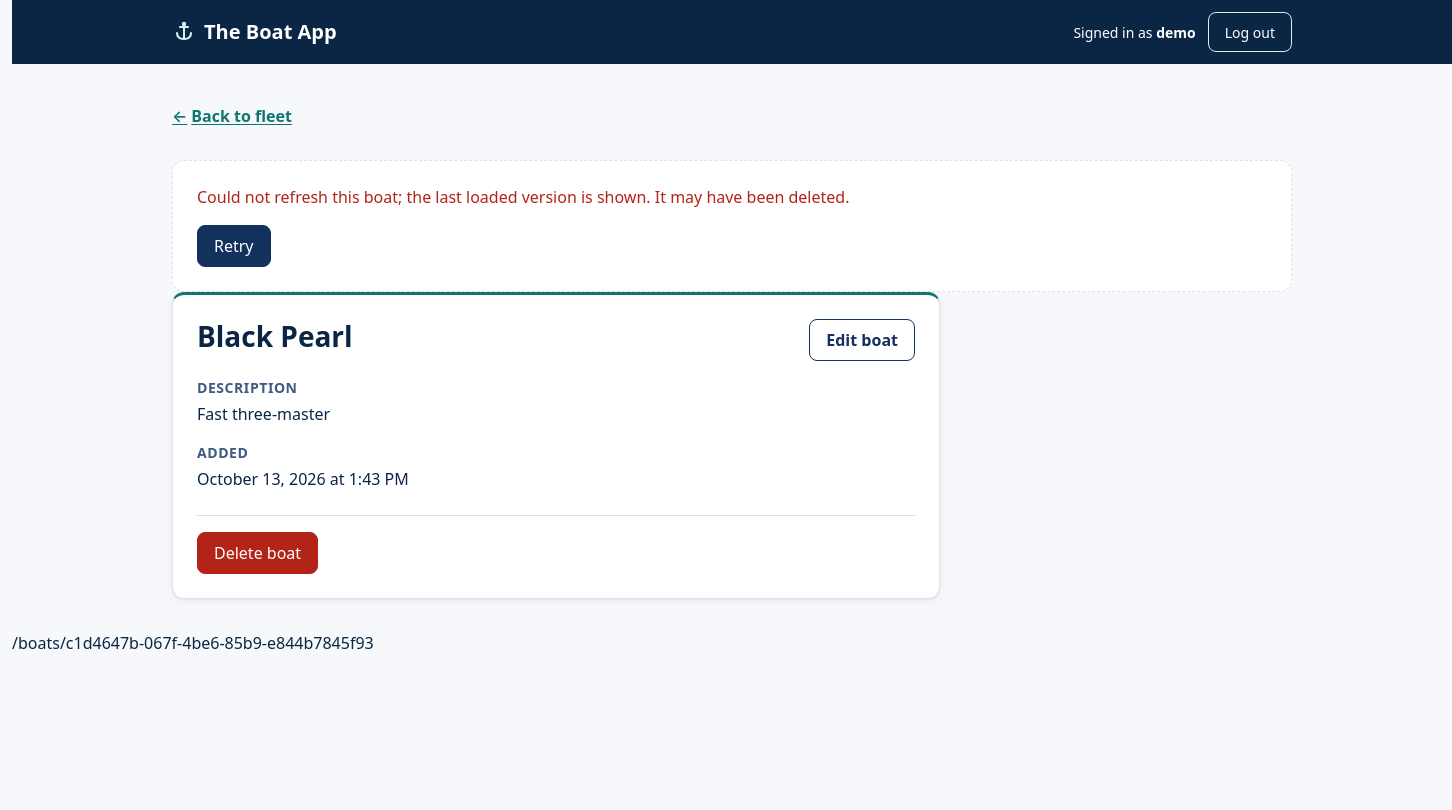
Test: BoatDetailPage › keeps showing the boat when a background refetch fails, and reports it
Check: the message shows "Could not refresh this boat; the last loaded version is shown. It may have been deleted.", box [197,186,850,208]
Check: the heading "Black Pearl" is shown, box [197,319,353,354]
Step 1. Click the button "Retry" → [234, 246], box [197,225,270,267]
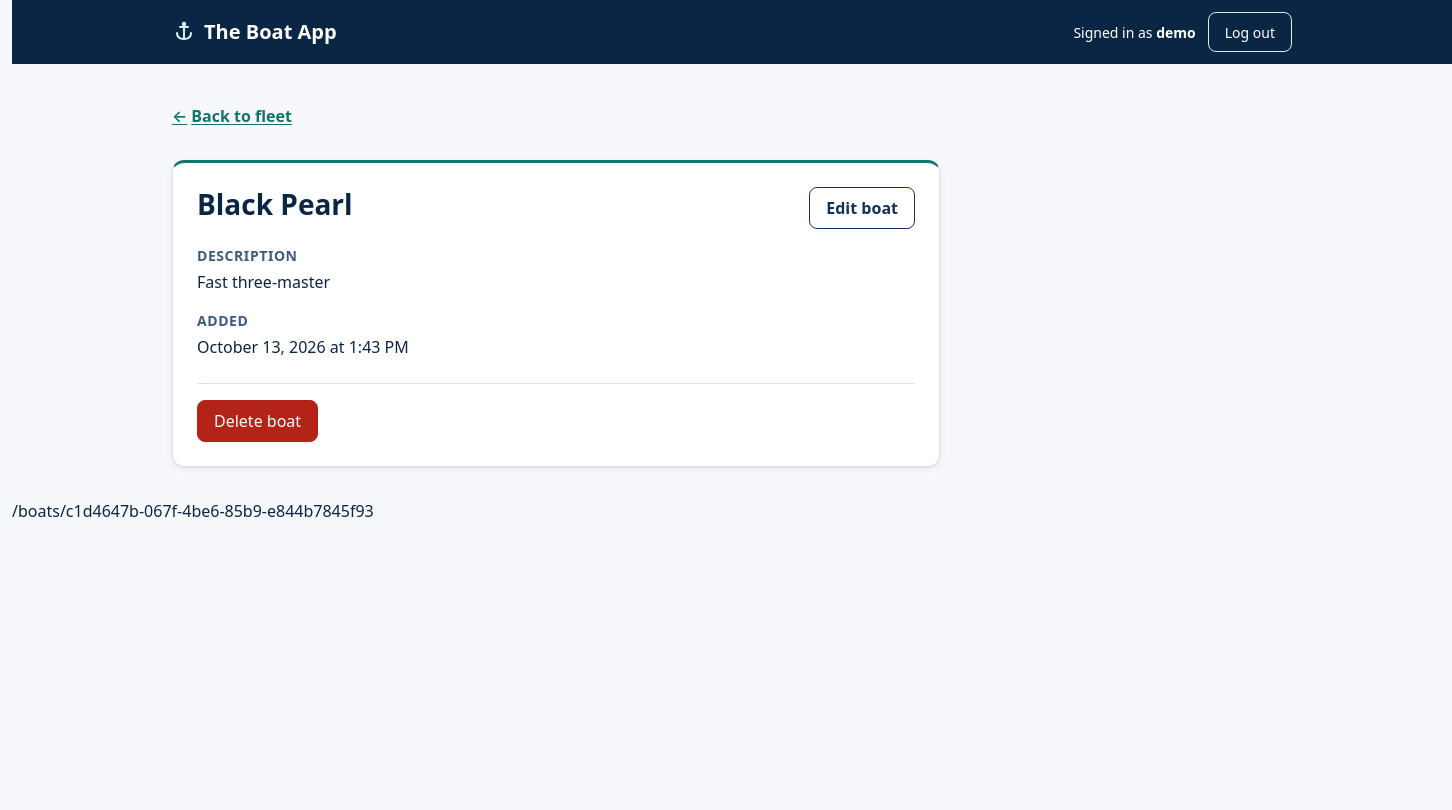
Check: the message "Could not refresh this boat; the last loaded version is shown. It may have been" is gone
